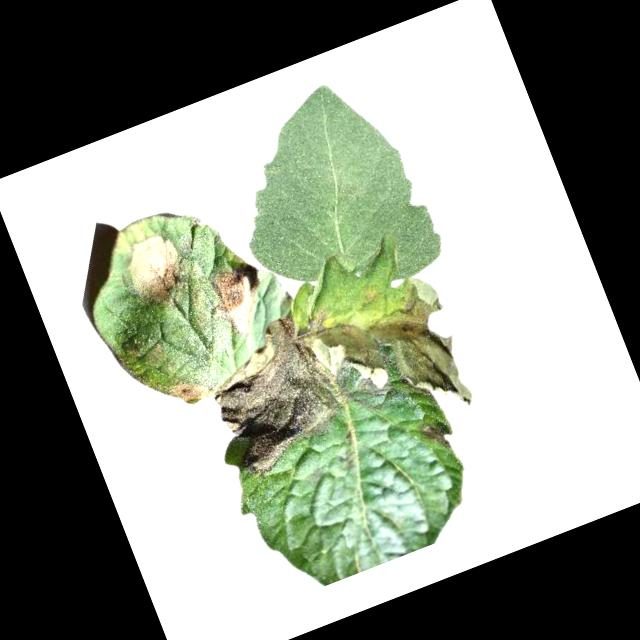Late_blight: (308, 267, 481, 449), (193, 309, 352, 481), (108, 225, 200, 319), (198, 259, 275, 344), (163, 372, 210, 410), (417, 417, 457, 459)
